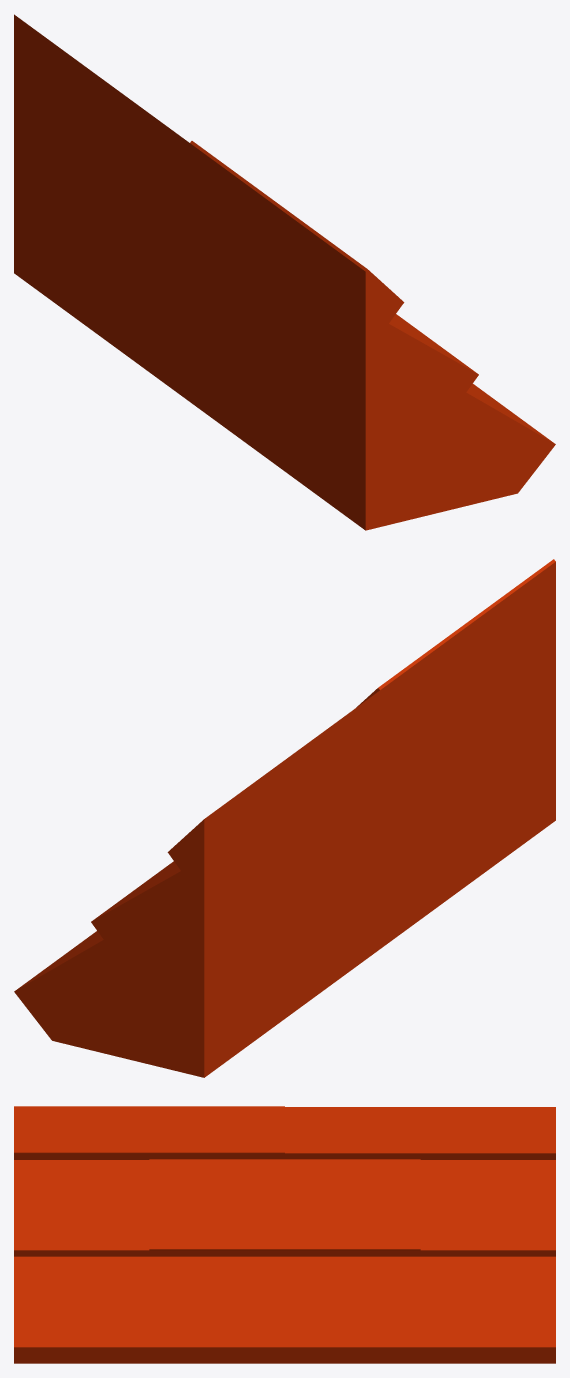
The model's file is Building_Modular_Roof_Piece_01.fbx.
3 renders of one model, top to bottom at view 1: azimuth 30°, elevation 25°; view 2: azimuth 150°, elevation 25°; view 3: azimuth 270°, elevation 25°, orthographic. The views are drawn at different scales.
Visible parts, largest first — view 1: Model; view 2: Model; view 3: Model.
Boxes of the visible parts, x1=… form: Model: x1=14, y1=14, x2=555, y2=530; Model: x1=14, y1=559, x2=555, y2=1077; Model: x1=14, y1=1106, x2=555, y2=1363.
Bounding box in the file's own units: 133 × 174 × 425.
